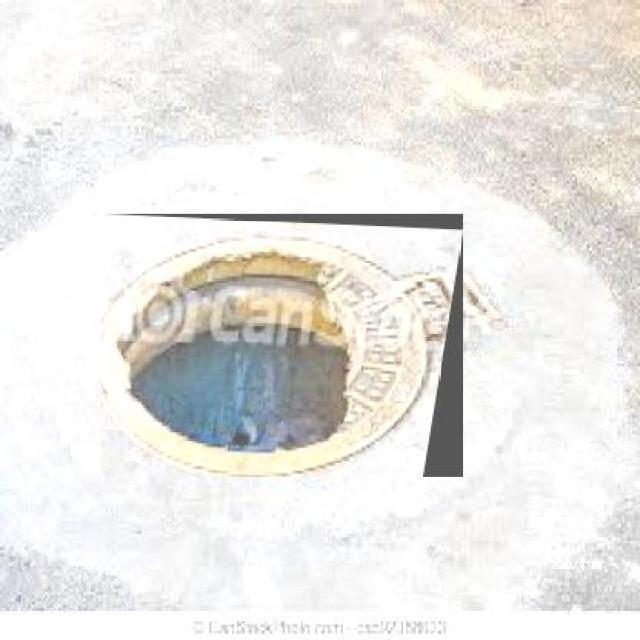Open Manhole: (100, 214, 463, 477)
